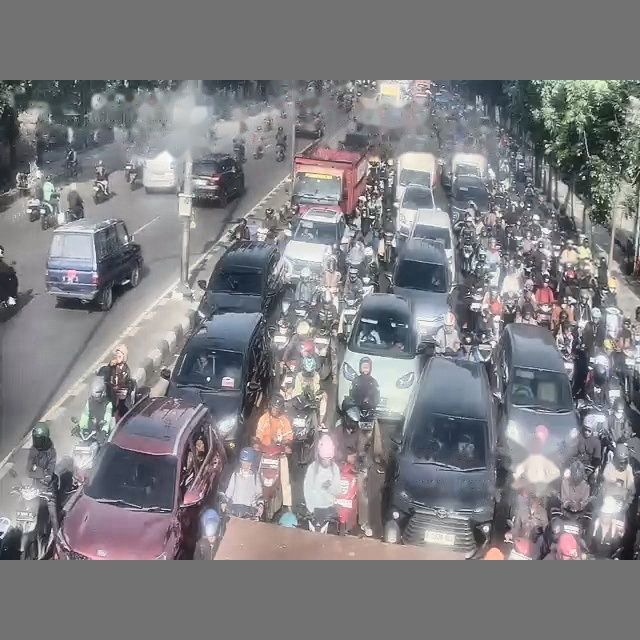Mobil: (55, 397, 225, 559), (390, 356, 496, 557), (161, 313, 271, 453), (491, 323, 579, 468), (337, 293, 420, 421), (45, 218, 142, 310), (387, 239, 453, 341), (198, 240, 283, 318), (283, 207, 352, 281), (409, 209, 456, 281), (192, 153, 244, 207), (394, 184, 436, 236), (449, 176, 489, 224), (295, 112, 324, 138)
Motor: (8, 480, 54, 559), (258, 445, 286, 522), (71, 417, 99, 485), (340, 292, 361, 340), (124, 162, 139, 189), (93, 179, 109, 204), (275, 144, 285, 161)
Truk: (291, 146, 367, 215)
